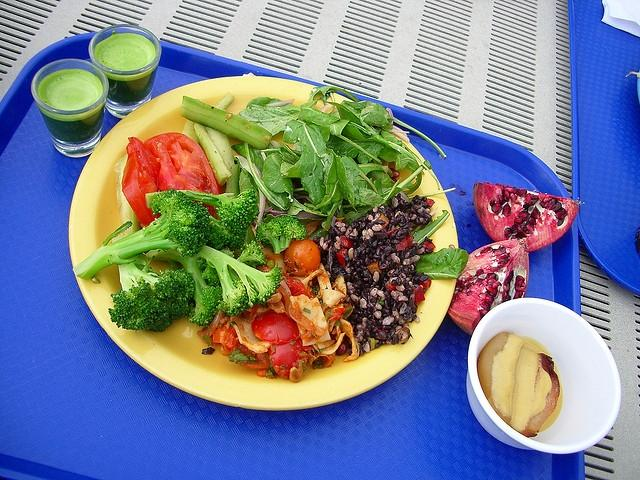broccoli: (74, 188, 210, 280), (146, 244, 282, 327), (108, 234, 195, 332), (176, 189, 261, 240), (254, 215, 306, 254), (237, 239, 267, 268)
tomato: (144, 132, 222, 194), (122, 136, 162, 228), (252, 310, 300, 346), (268, 338, 304, 380), (284, 237, 321, 276), (234, 342, 270, 368), (212, 322, 238, 352), (280, 274, 310, 298)
